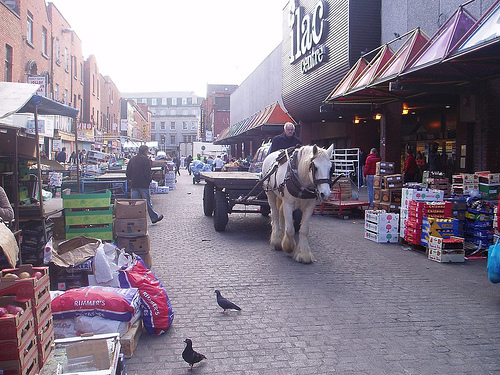horse: (260, 143, 335, 265)
